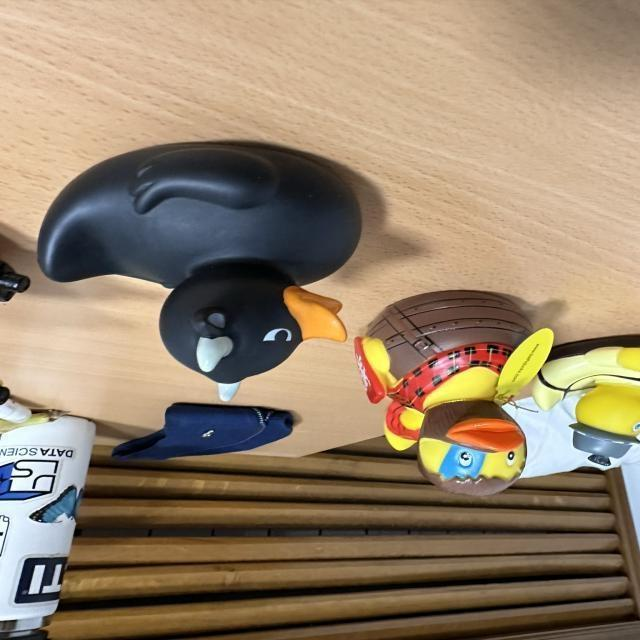rubber-duck: (37, 141, 359, 392), (354, 289, 551, 493), (571, 378, 638, 458)
